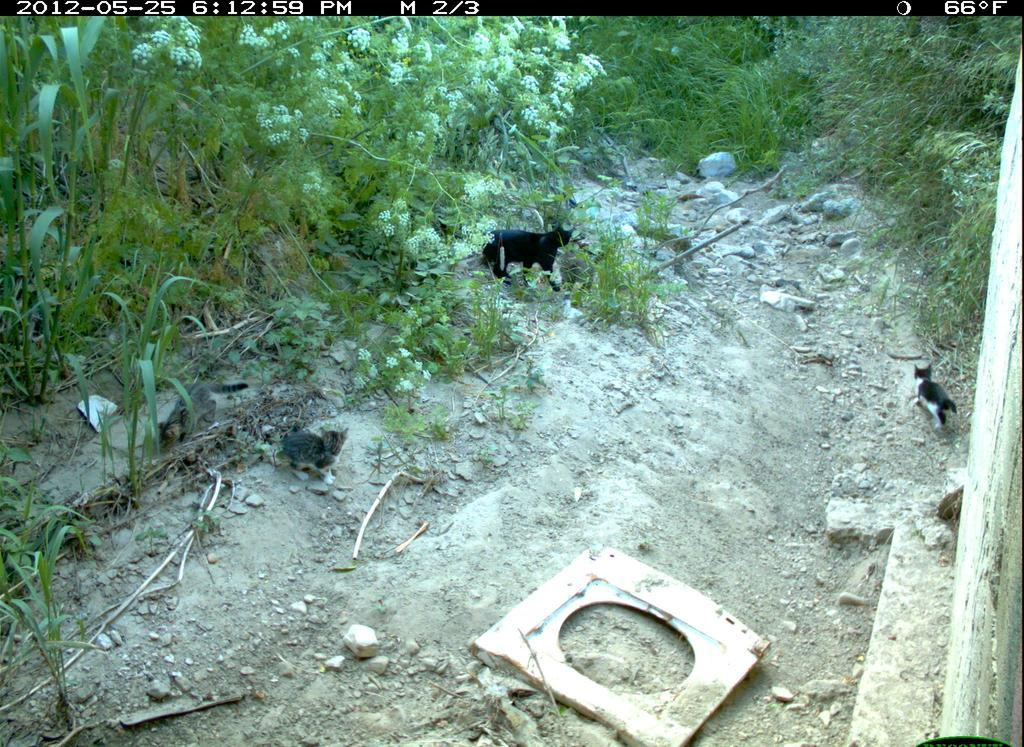cat: (474, 217, 583, 301), (154, 375, 254, 456), (277, 415, 360, 486), (907, 361, 971, 437)
